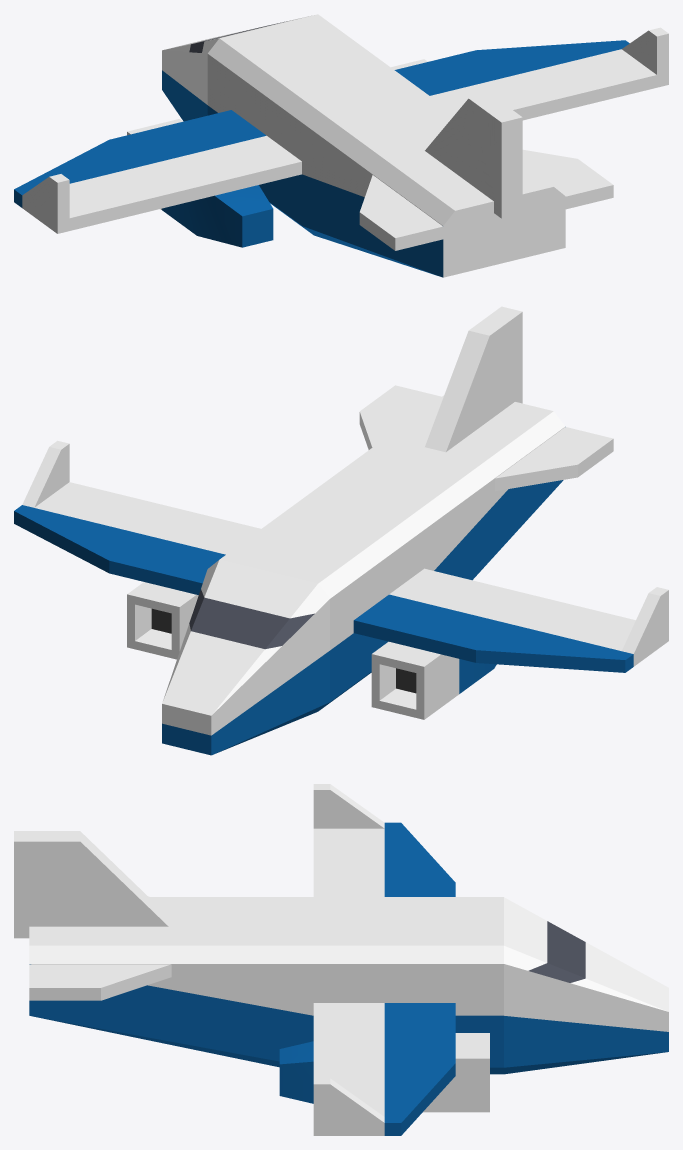
File: airplane.model.fbx
The picture shows the model from 3 angles, top to bottom: view 1: azimuth 30°, elevation 25°; view 2: azimuth 150°, elevation 25°; view 3: azimuth 270°, elevation 25°; orthographic projection.
Visible parts, largest first — view 1: (0.0, 0.0, 0.0) (×11); view 2: (0.0, 0.0, 0.0) (×12); view 3: (0.0, 0.0, 0.0) (×10).
Part boxes in pixels (bbox=[...]): (0.0, 0.0, 0.0) (×11): bbox=[14, 14, 668, 277]; (0.0, 0.0, 0.0) (×12): bbox=[14, 306, 668, 755]; (0.0, 0.0, 0.0) (×10): bbox=[14, 784, 668, 1135].
Size of the model in its own units: 50 by 16.6 by 46.09.
